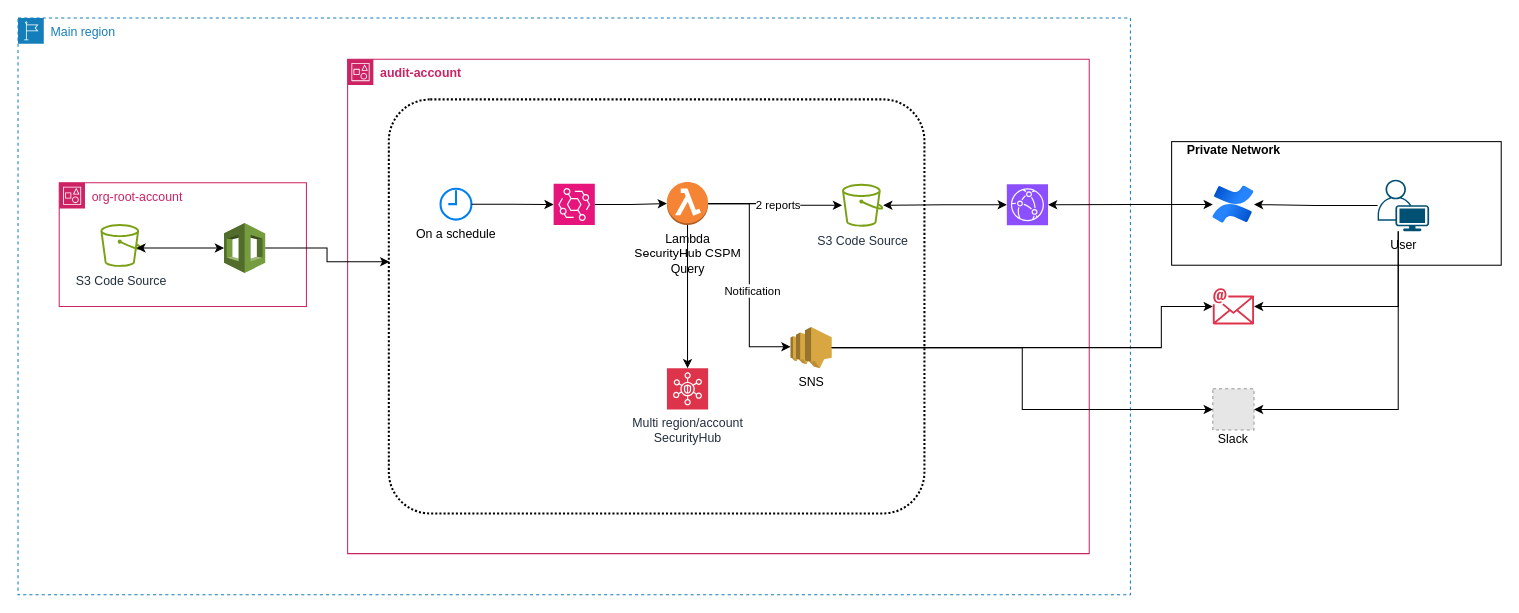
This 1519x613 diagram has some shape labels left out. Grey dashed boxes stand in for pictures. The centre of each missing label's shape, as x and y in pixels:
"Build StackSets" belongs at (244,247).
"CloudFront Distribution" belongs at (1027,204).
"Confluence Page" belongs at (1233,204).
"Email" belongs at (1233,306).
"EventBridge" belongs at (574,204).
